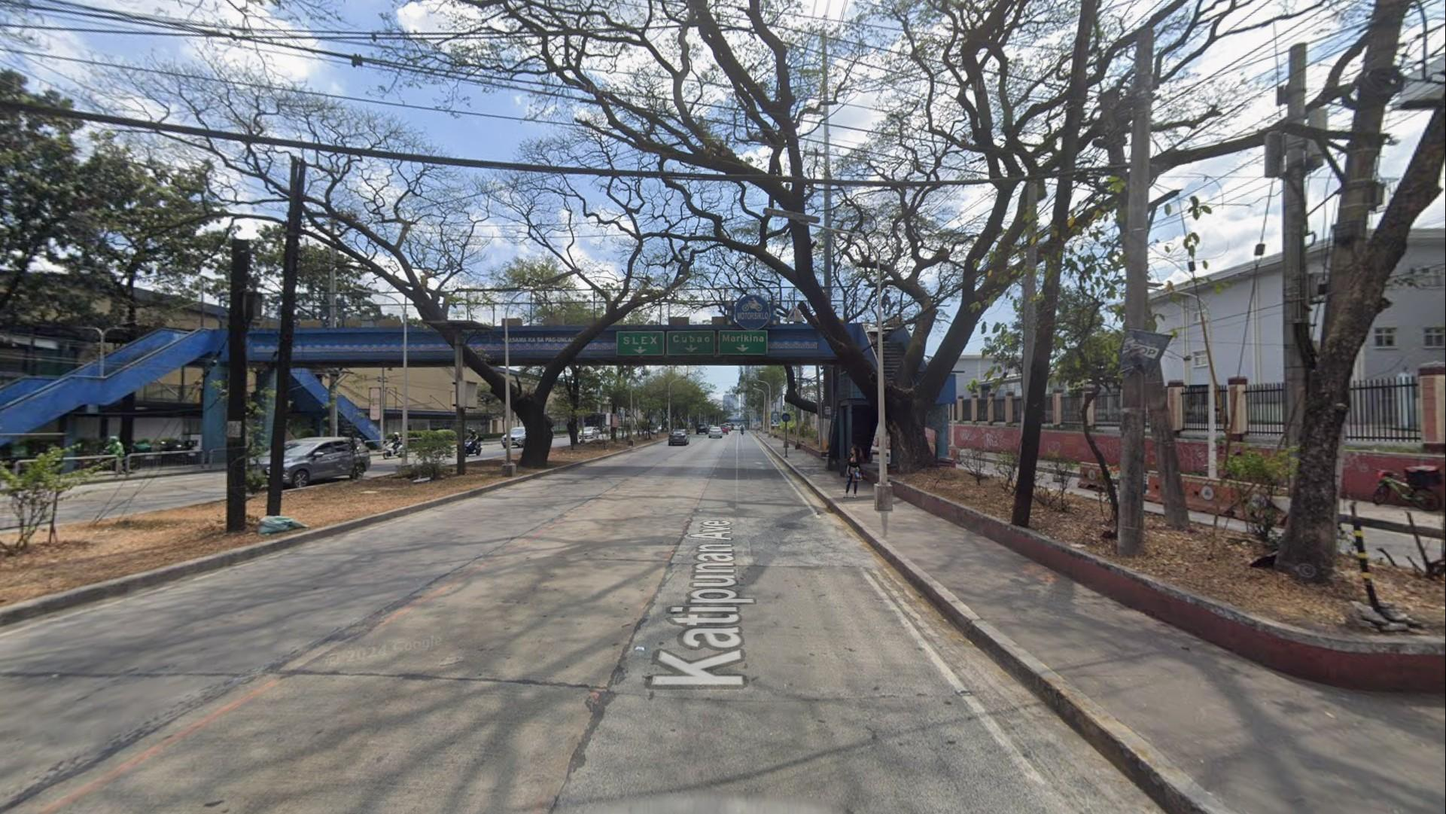pedestrian: (842, 444, 864, 499)
